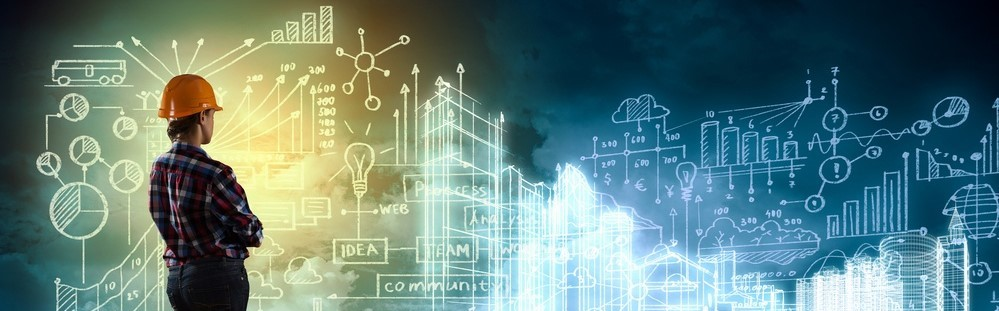person: (148, 72, 268, 311)
